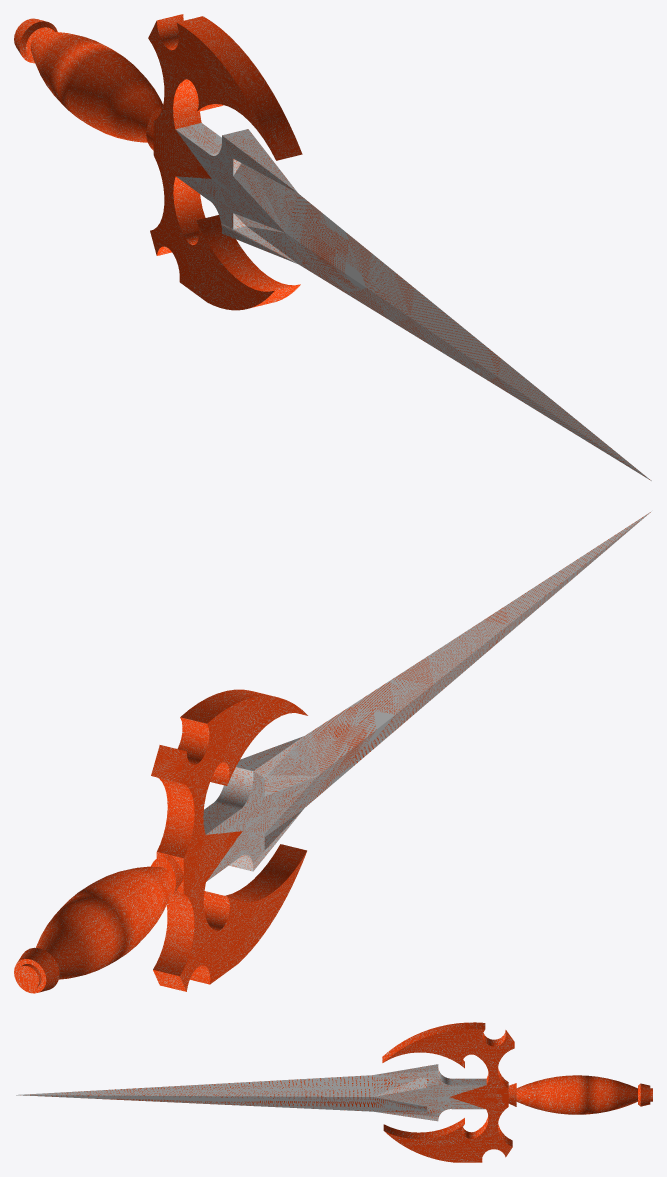
Rendered from model_align.obj.
3 views of the same model, one above another, from view 1: azimuth 30°, elevation 25°; view 2: azimuth 150°, elevation 25°; view 3: azimuth 270°, elevation 25° (orthographic). The views are drawn at different scales.
Parts seen in each view (by area): view 1: mesh1_mesh1-geometry, mesh2_mesh2-geometry; view 2: mesh1_mesh1-geometry, mesh2_mesh2-geometry; view 3: mesh1_mesh1-geometry, mesh2_mesh2-geometry.
Boxes of the visible parts, x1,y1,x2,y2 form: mesh1_mesh1-geometry: [146, 14, 651, 480]; mesh2_mesh2-geometry: [14, 18, 162, 142]; mesh1_mesh1-geometry: [151, 511, 651, 991]; mesh2_mesh2-geometry: [14, 866, 173, 993]; mesh1_mesh1-geometry: [16, 1022, 516, 1162]; mesh2_mesh2-geometry: [516, 1075, 652, 1114].
Size of the model in its own units: 0.0132 by 0.049 by 0.2129.
